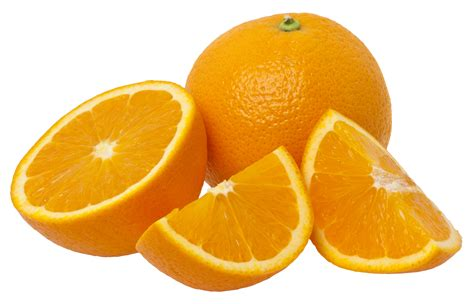orange: (182, 9, 393, 162)
